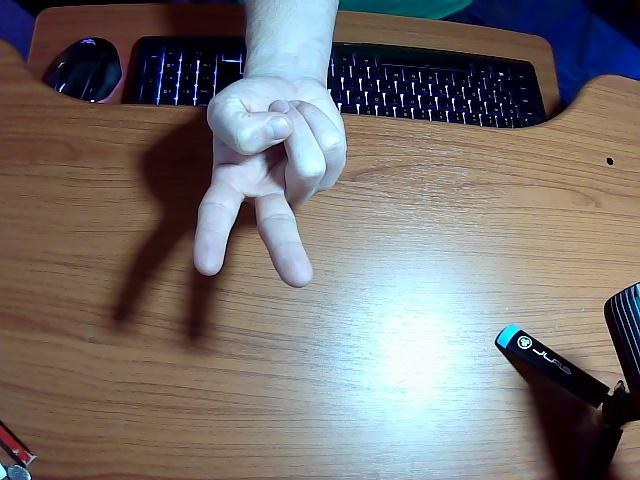scissors: (245, 0, 339, 84)
